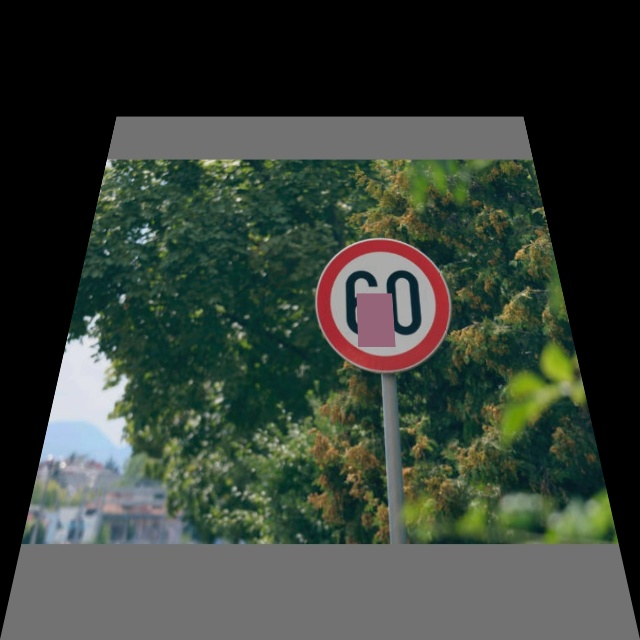Speed_Limit_60: (310, 237, 459, 374)
